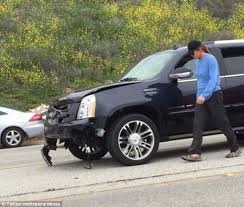Smashed: (41, 95, 105, 166), (46, 81, 142, 118)
